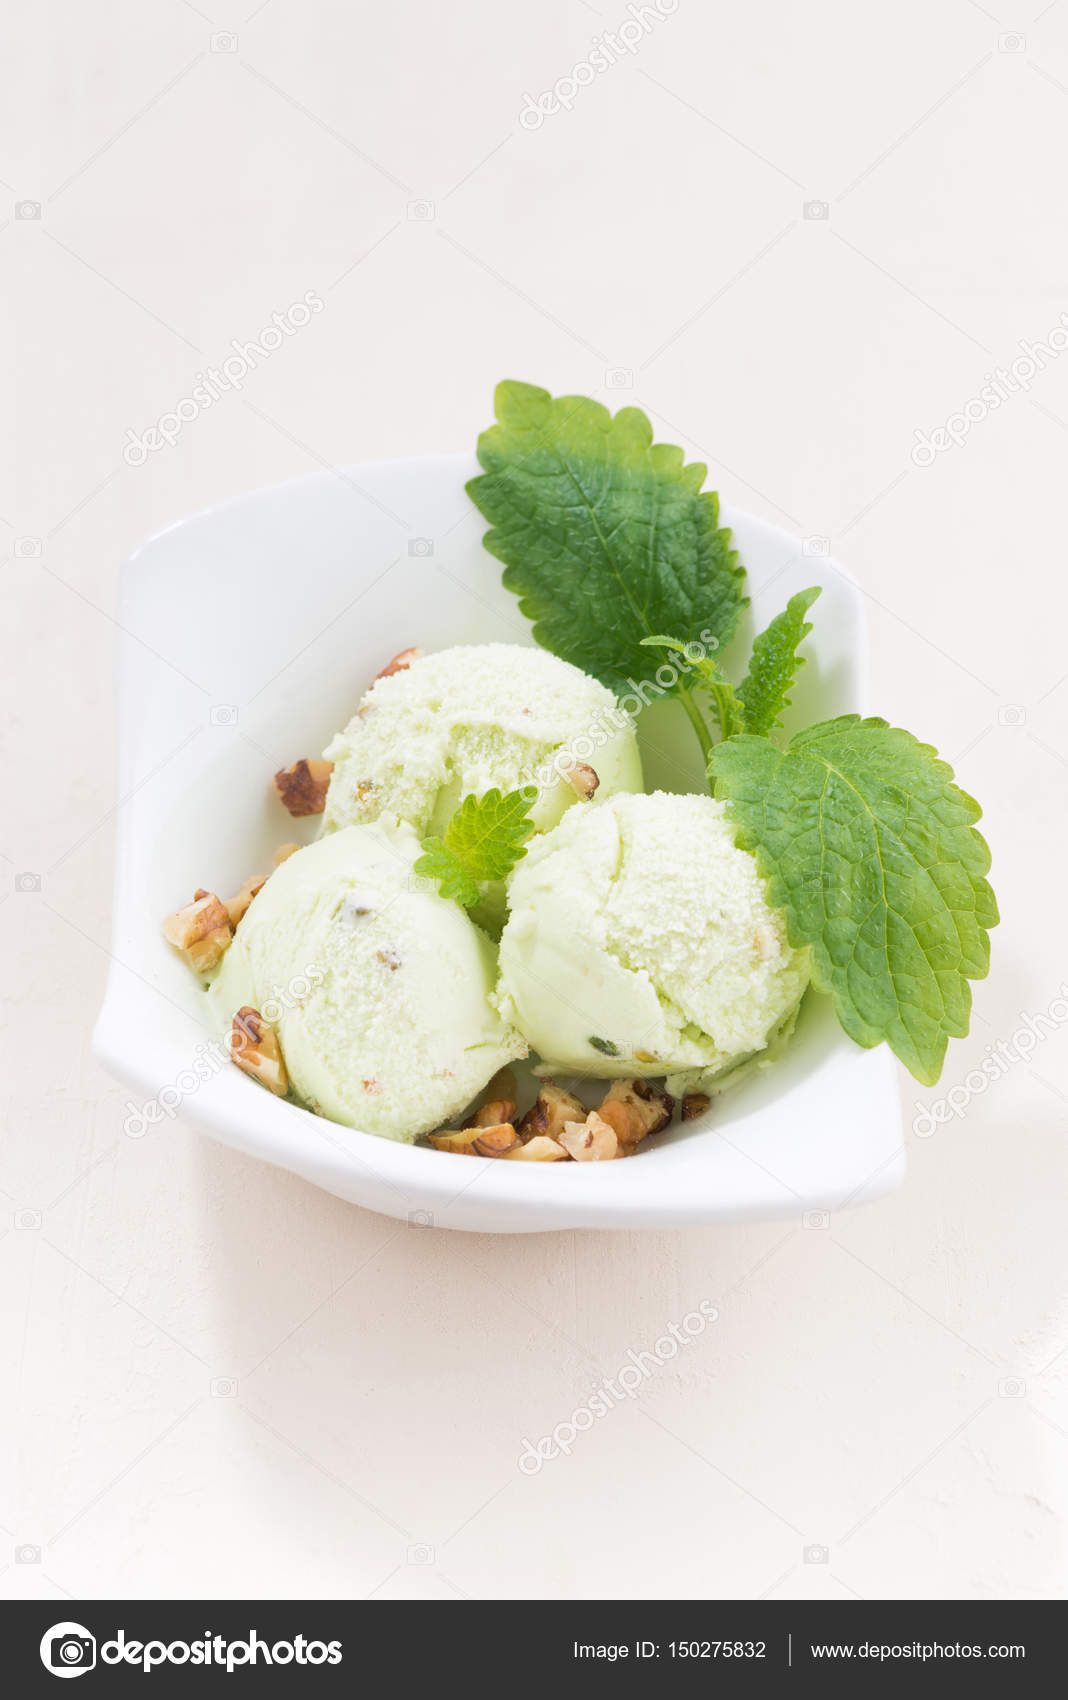ice-cream: (493, 790, 811, 1081), (199, 832, 504, 1126), (320, 647, 647, 872)
